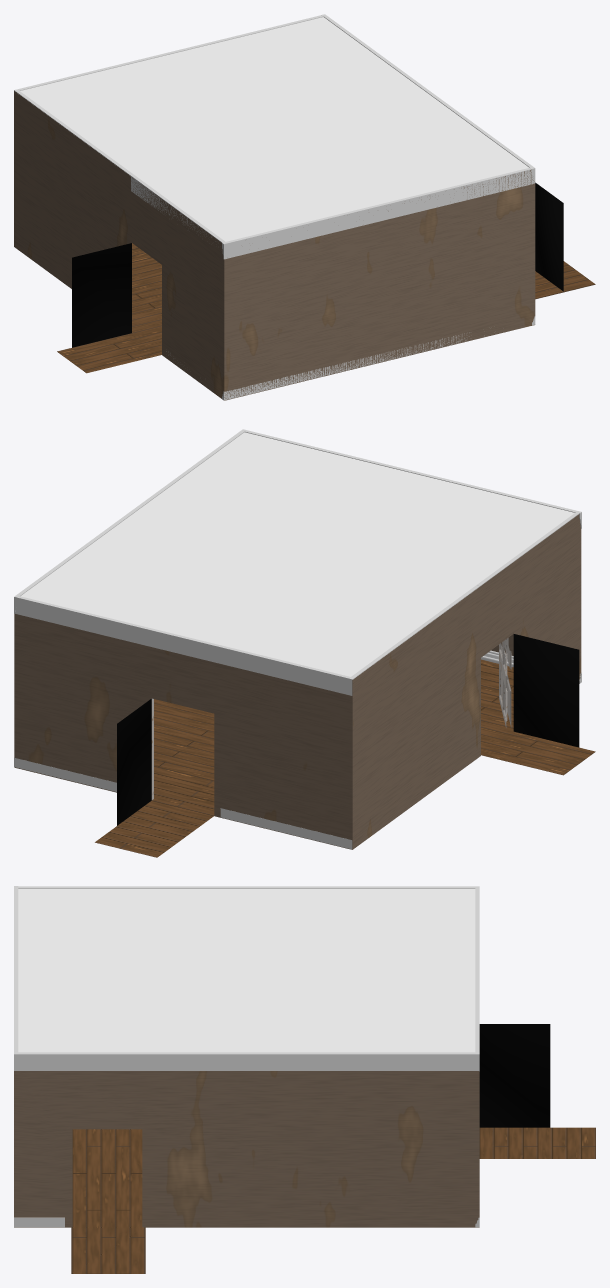
File: TEST Bedroom.fbx
The picture shows the model from 3 angles, top to bottom: view 1: azimuth 30°, elevation 25°; view 2: azimuth 150°, elevation 25°; view 3: azimuth 270°, elevation 25°; orthographic projection. The views are drawn at different scales.
Visible parts, largest first — view 1: Walls, Ceiling, Ceiling_Accents, Black Hallways, Floor, Floor_Accents; view 2: Ceiling, Walls, Floor, Black Hallways, Ceiling_Accents, Floor_Accents, Door_Left; view 3: Ceiling, Walls, Floor, Ceiling_Accents, Black Hallways, Floor_Accents.
Part boxes in pixels (<box>): Walls: <box>14,91,535,400</box>; Ceiling: <box>20,17,529,241</box>; Ceiling_Accents: <box>14,14,535,259</box>; Black Hallways: <box>72,182,563,347</box>; Floor: <box>57,243,595,373</box>; Floor_Accents: <box>166,316,535,400</box>; Ceiling: <box>21,432,574,676</box>; Walls: <box>14,514,581,849</box>; Floor: <box>95,659,595,857</box>; Black Hallways: <box>117,634,579,825</box>; Ceiling_Accents: <box>14,429,581,695</box>; Floor_Accents: <box>14,650,581,849</box>; Door_Left: <box>499,638,511,727</box>; Ceiling: <box>18,888,475,1052</box>; Walls: <box>14,1071,479,1227</box>; Floor: <box>71,1127,595,1273</box>; Ceiling_Accents: <box>14,886,479,1071</box>; Black Hallways: <box>479,1024,550,1127</box>; Floor_Accents: <box>14,1217,479,1227</box>.
Bounding box in the file's own units: 2880 × 913 × 2773.
